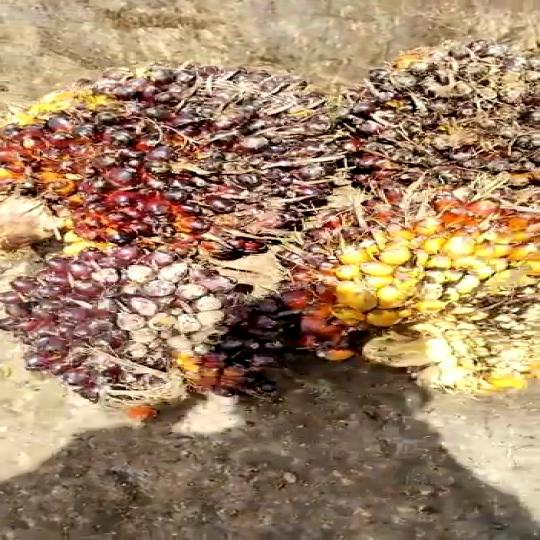kurang masak: (0, 60, 344, 267), (0, 236, 306, 414), (283, 182, 540, 384), (335, 38, 540, 180)
